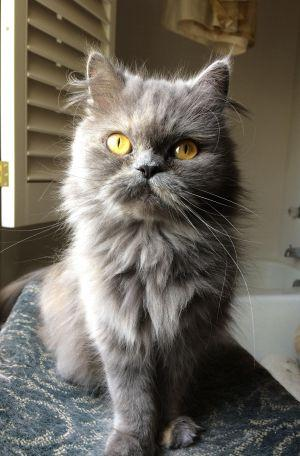persian: (64, 48, 251, 222)
